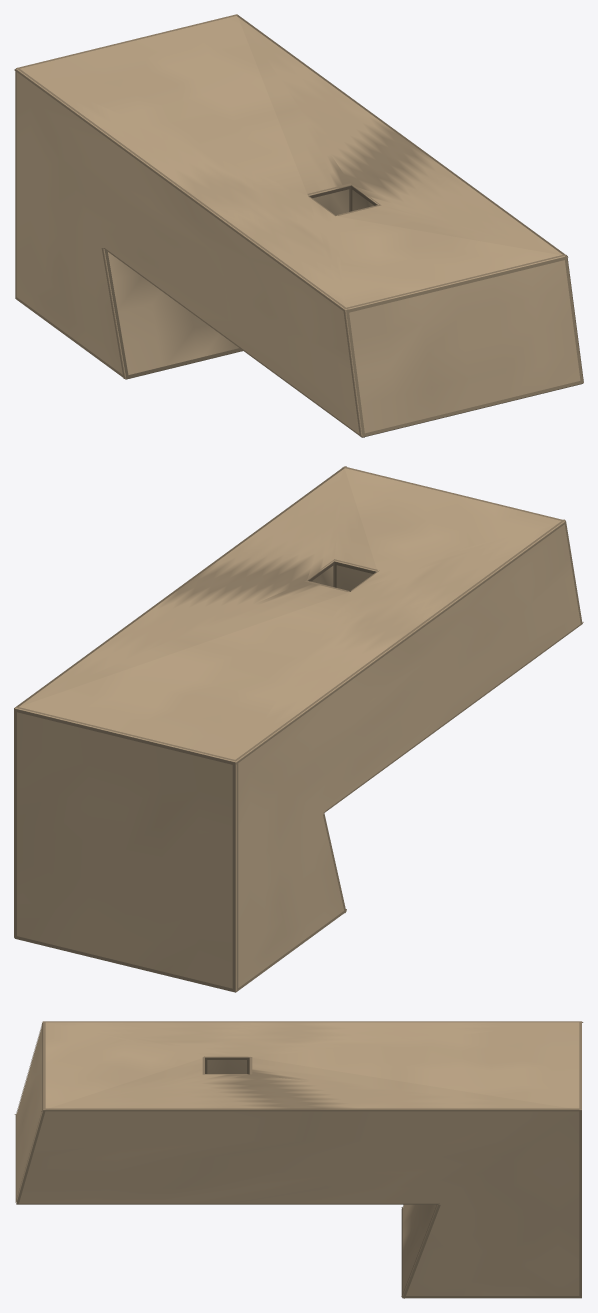
The picture shows the model from 3 angles, top to bottom: view 1: azimuth 30°, elevation 25°; view 2: azimuth 150°, elevation 25°; view 3: azimuth 270°, elevation 25°; orthographic projection. The views are drawn at different scales.
Parts seen in each view (by area): view 1: part-b; view 2: part-b; view 3: part-b.
Part boxes in pixels (bbox=[...]): part-b: bbox=[14, 14, 583, 437]; part-b: bbox=[14, 466, 583, 992]; part-b: bbox=[14, 1021, 583, 1298].
Size of the model in its own units: 0.1208 by 0.1199 by 0.3277.
